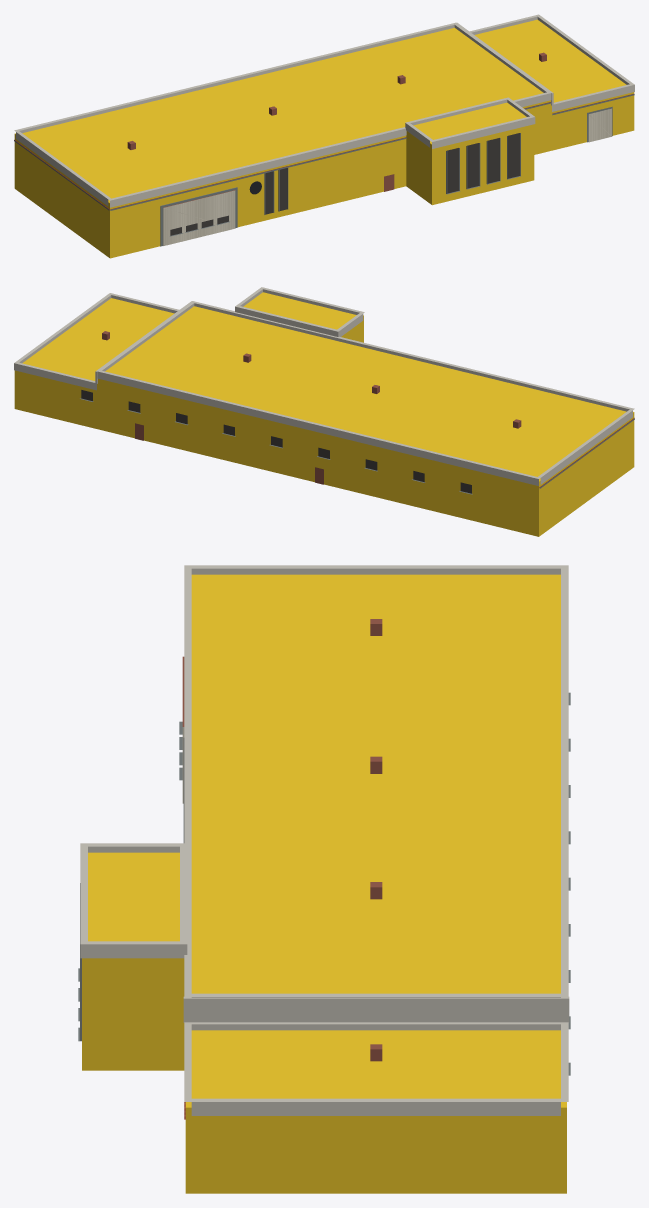
File: cyxd_hangar3_lod1.gltf
3 views of the same model, one above another, from view 1: azimuth 30°, elevation 25°; view 2: azimuth 150°, elevation 25°; view 3: azimuth 270°, elevation 25° (orthographic). The views are drawn at different scales.
Visible parts, largest first — view 1: cyxd_hangar3; view 2: cyxd_hangar3; view 3: cyxd_hangar3.
Boxes of the visible parts, x1,y1,x2,y2 form: cyxd_hangar3: [14, 14, 634, 258]; cyxd_hangar3: [14, 287, 634, 536]; cyxd_hangar3: [78, 565, 570, 1193].
Size of the model in its own units: 81.76 by 9.55 by 33.18.
